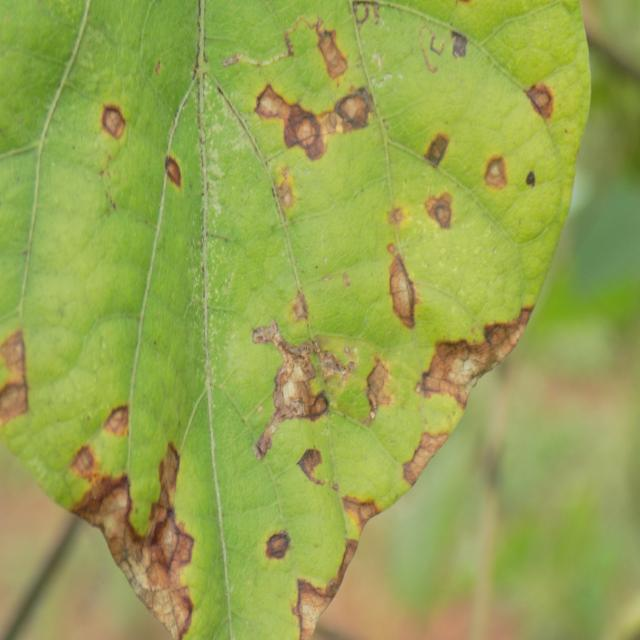Dolicos bean_cercospora leaf spot: (2, 0, 590, 640)
